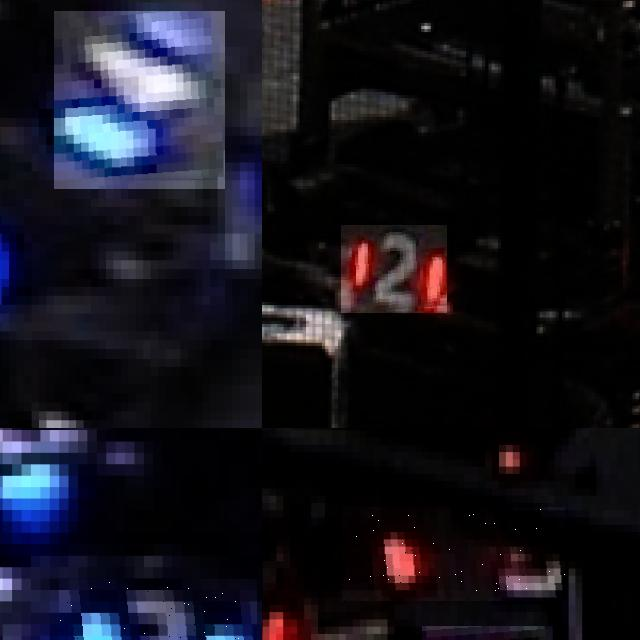B3: (59, 578, 256, 640)
B4: (54, 11, 225, 189)
R2: (341, 225, 447, 313)
R3: (342, 507, 565, 601)
